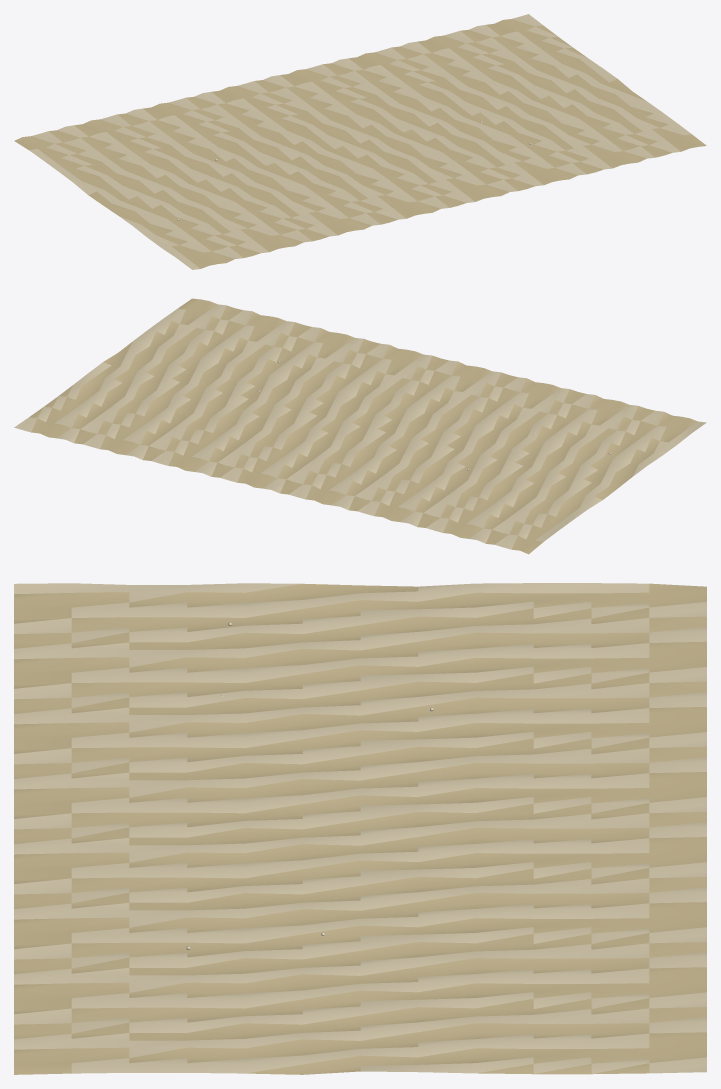
File: lake-ripples-shallows-0.glb
The picture shows the model from 3 angles, top to bottom: view 1: azimuth 30°, elevation 25°; view 2: azimuth 150°, elevation 25°; view 3: azimuth 270°, elevation 25°; orthographic projection. The views are drawn at different scales.
Visible parts, largest first — view 1: lake-ripples-shallows-0; view 2: lake-ripples-shallows-0; view 3: lake-ripples-shallows-0.
Part boxes in pixels (box(x1,y1,x2,y2)): lake-ripples-shallows-0: box(14, 14, 706, 269); lake-ripples-shallows-0: box(14, 298, 706, 554); lake-ripples-shallows-0: box(14, 583, 706, 1074).
Size of the model in its own units: 3 by 0.0111 by 1.8.
